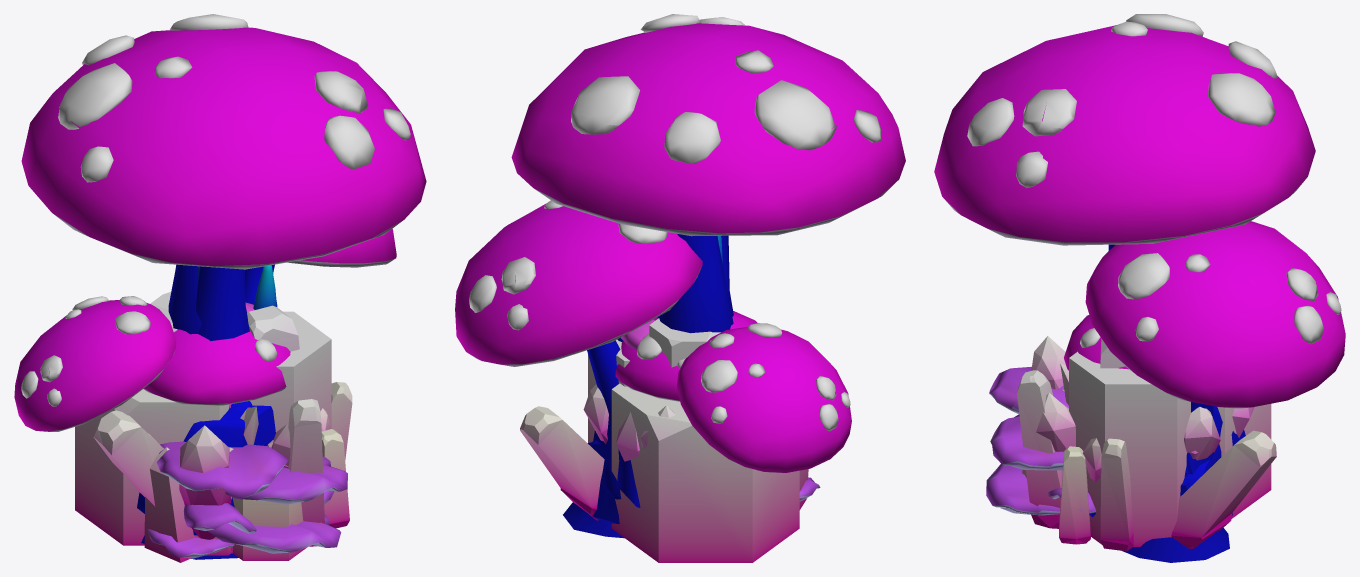
File: cave.glb
The picture shows the model from 3 angles, left to right: view 1: azimuth 30°, elevation 25°; view 2: azimuth 150°, elevation 25°; view 3: azimuth 270°, elevation 25°; orthographic projection. The views are drawn at different scales.
Visible parts, largest first — view 1: CV_Trio, CV_Crys5, CV_Shelf, CV_Crys6, CV_Dome, CV_Crys1, CV_Crys4, CV_Drip3, CV_Rock2; view 2: CV_Trio, CV_Crys5, CV_Drip3, CV_Crys6, CV_Dome, CV_Crys1, CV_Rock1, CV_Rock3, CV_Crys2; view 3: CV_Trio, CV_Crys6, CV_Crys5, CV_Shelf, CV_Crys1, CV_Drip3, CV_Dome, CV_Rock3.
Part boxes in pixels (box(x1,y1,x2,y2)): CV_Trio: box(14, 14, 426, 431); CV_Crys5: box(75, 292, 331, 560); CV_Shelf: box(147, 441, 347, 558); CV_Crys6: box(93, 305, 352, 546); CV_Dome: box(143, 329, 290, 405); CV_Crys1: box(148, 404, 331, 539); CV_Crys4: box(144, 447, 232, 562); CV_Drip3: box(168, 264, 277, 334); CV_Rock2: box(137, 401, 275, 535); CV_Trio: box(455, 14, 905, 472); CV_Crys5: box(588, 318, 799, 562); CV_Drip3: box(563, 234, 733, 538); CV_Crys6: box(520, 406, 604, 520); CV_Dome: box(615, 311, 757, 401); CV_Crys1: box(583, 384, 675, 448); CV_Rock1: box(589, 440, 619, 524); CV_Rock3: box(587, 402, 640, 507); CV_Crys2: box(597, 412, 639, 461); CV_Trio: box(934, 14, 1345, 418); CV_Crys6: box(1017, 338, 1276, 551); CV_Crys5: box(1022, 351, 1271, 546); CV_Shelf: box(986, 366, 1096, 515); CV_Crys1: box(1031, 336, 1220, 482); CV_Drip3: box(1122, 466, 1229, 562); CV_Dome: box(1064, 315, 1128, 370); CV_Rock3: box(1180, 406, 1245, 496).
Bounding box in the file's own units: 1.94 × 2.39 × 1.92.
